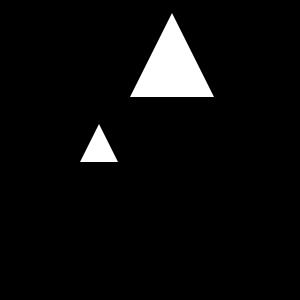triangle: (130, 13, 214, 97), (80, 124, 118, 162)
